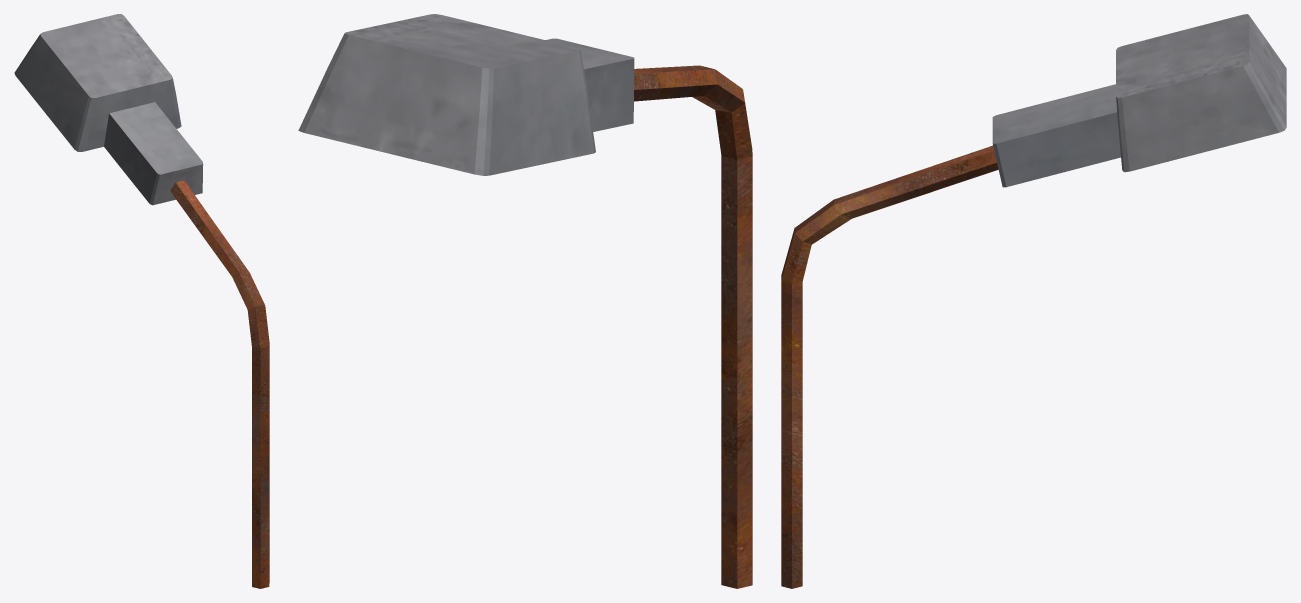
Rendered from lampSov_03.glb.
3 renders of one model, left to right at view 1: azimuth 30°, elevation 25°; view 2: azimuth 150°, elevation 25°; view 3: azimuth 270°, elevation 25°, orthographic. The views are drawn at different scales.
Parts seen in each view (by area): view 1: geometry_1, geometry_2; view 2: geometry_1, geometry_2; view 3: geometry_1, geometry_2.
Boxes of the visible parts, left/top/right/bottom form: geometry_1: left=14, top=14, right=203, bottom=205; geometry_2: left=170, top=180, right=269, bottom=588; geometry_1: left=298, top=14, right=634, bottom=175; geometry_2: left=634, top=65, right=752, bottom=588; geometry_1: left=992, top=14, right=1286, bottom=187; geometry_2: left=781, top=145, right=998, bottom=588.
Size of the model in its own units: 1.39 by 5.35 by 4.5.
Materials: 3 (3 with a texture image).
